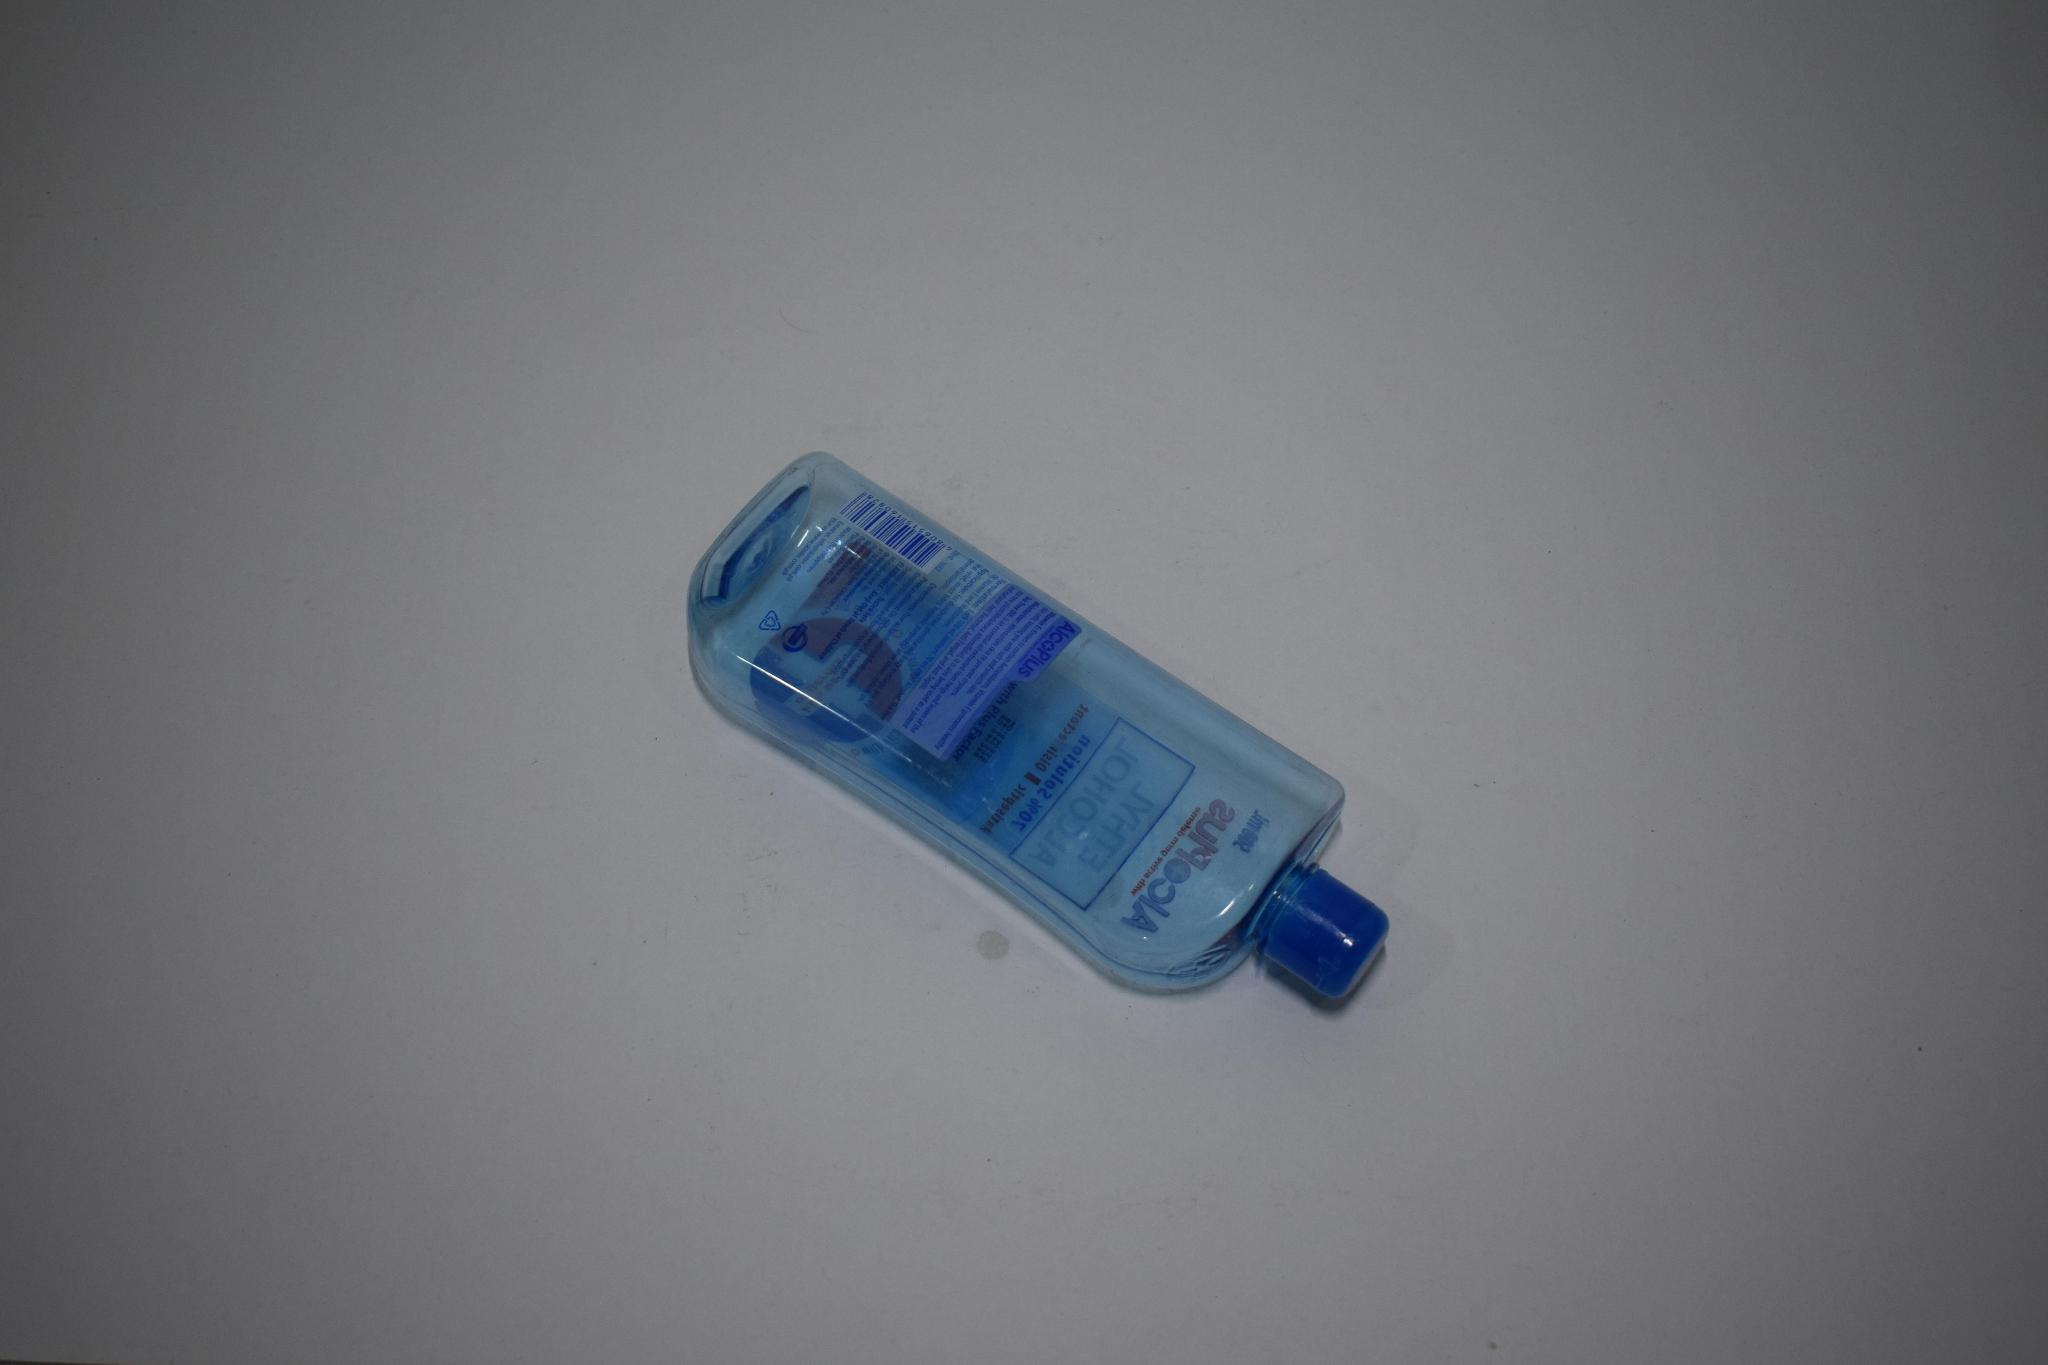bottle: (664, 437, 1448, 1053)
